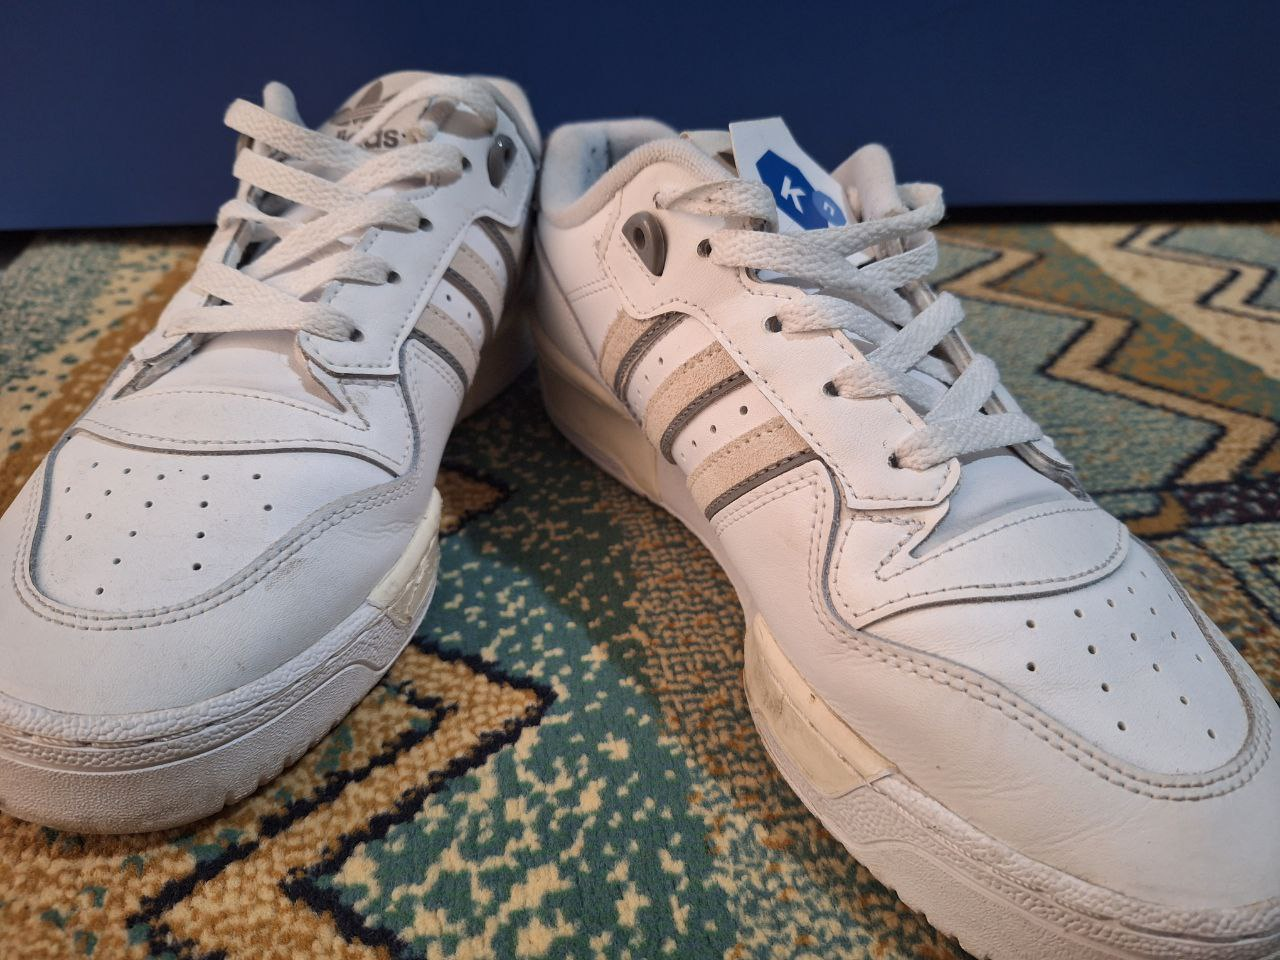knative: (747, 143, 866, 232)
